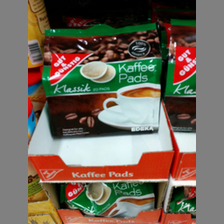coffee: (39, 23, 163, 140)
